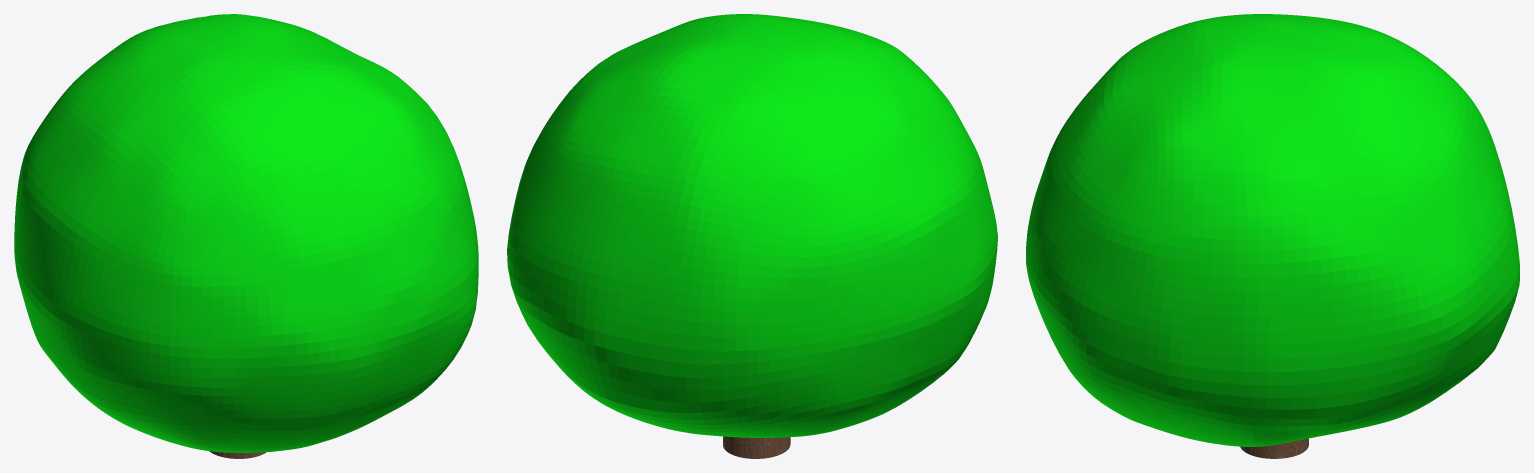
The model's file is Bush.fbx.
The picture shows the model from 3 angles, left to right: view 1: azimuth 30°, elevation 25°; view 2: azimuth 150°, elevation 25°; view 3: azimuth 270°, elevation 25°; orthographic projection. The views are drawn at different scales.
Parts seen in each view (by area): view 1: Bush; view 2: Bush, Cylinder; view 3: Bush, Cylinder.
Part boxes in pixels (left/top/right/bottom): Bush: left=14, top=14, right=478, bottom=452; Bush: left=507, top=14, right=997, bottom=437; Cylinder: left=723, top=436, right=790, bottom=458; Bush: left=1026, top=14, right=1519, bottom=446; Cylinder: left=1240, top=438, right=1308, bottom=458.
Size of the model in its own units: 398 by 376 by 415.
